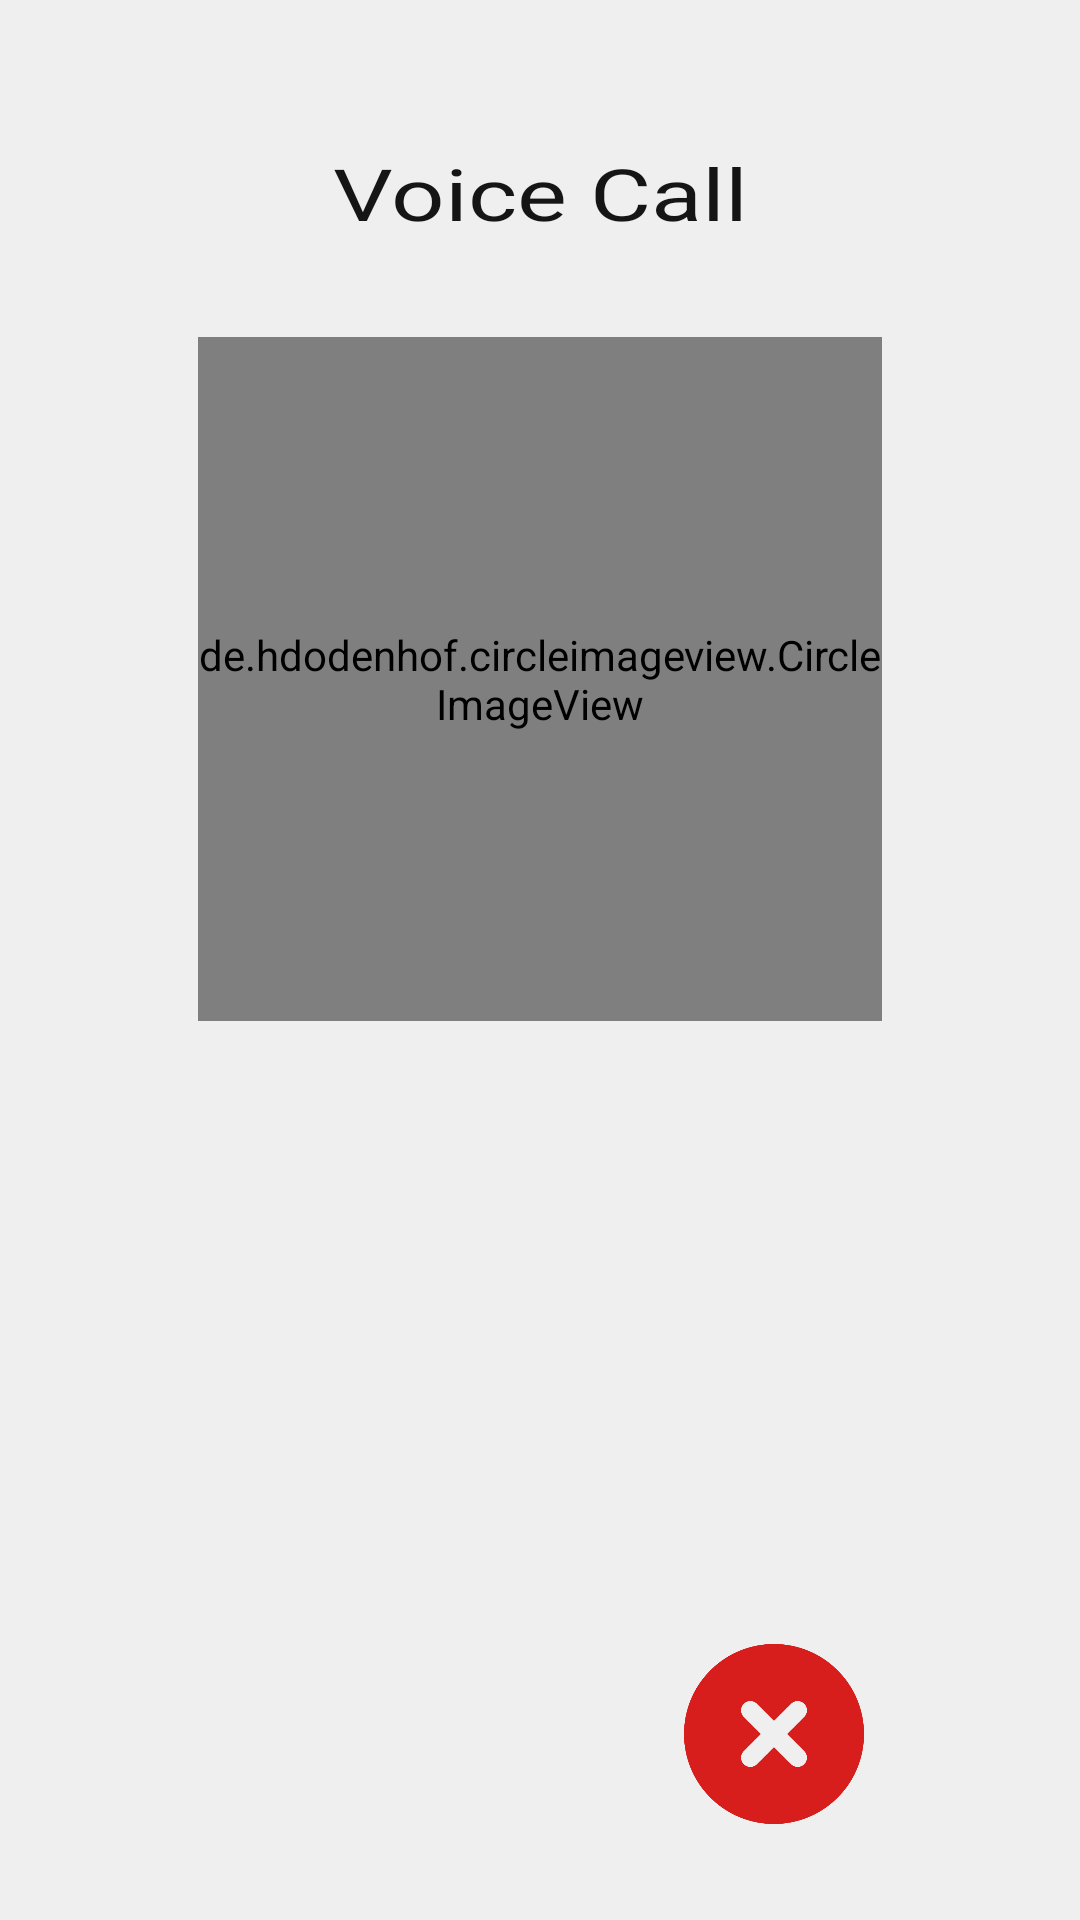

Screen size 1080 × 1920. Icon name, then its box in pixels as (x1, y1, x2, y2):
call hang up: (684, 1644, 864, 1824)
